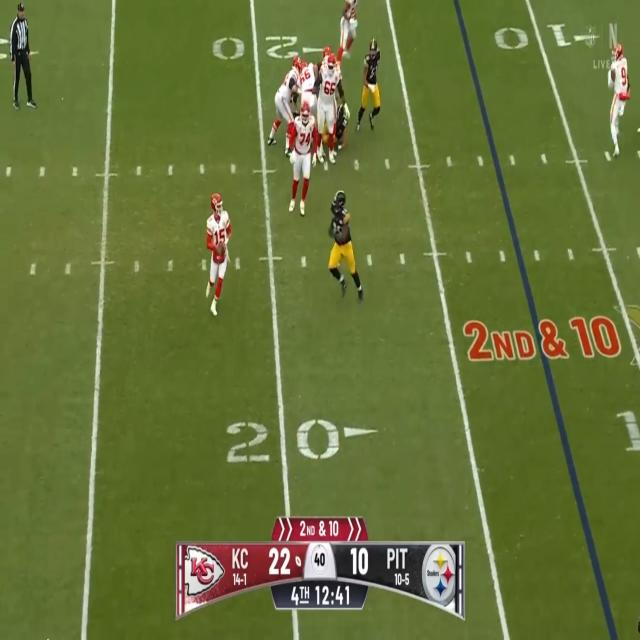Ball: (219, 242, 226, 256)
